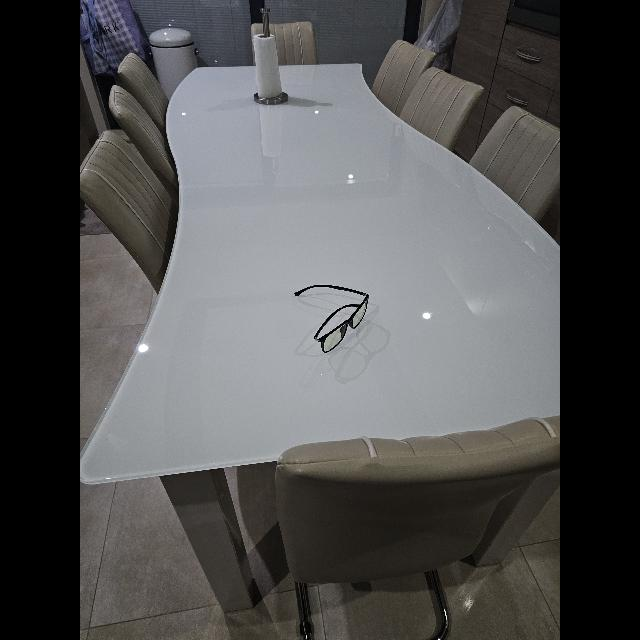glasses: (294, 285, 370, 353)
